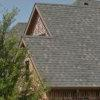Tree: (1, 6, 24, 92)
